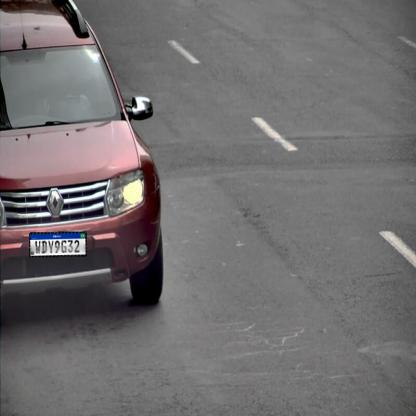PlacaM: (29, 232, 87, 257)
